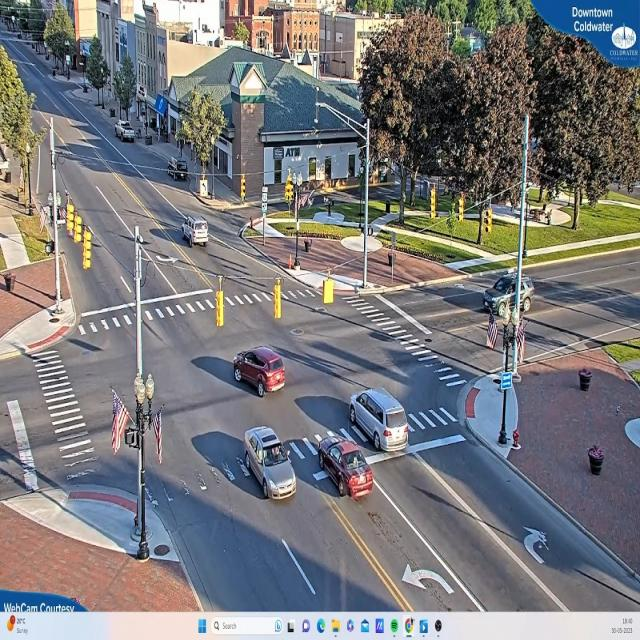car: (242, 429, 300, 501), (350, 390, 410, 457), (316, 439, 374, 500), (231, 348, 288, 398), (483, 272, 537, 318), (116, 122, 136, 142)
truck: (180, 217, 210, 248)
